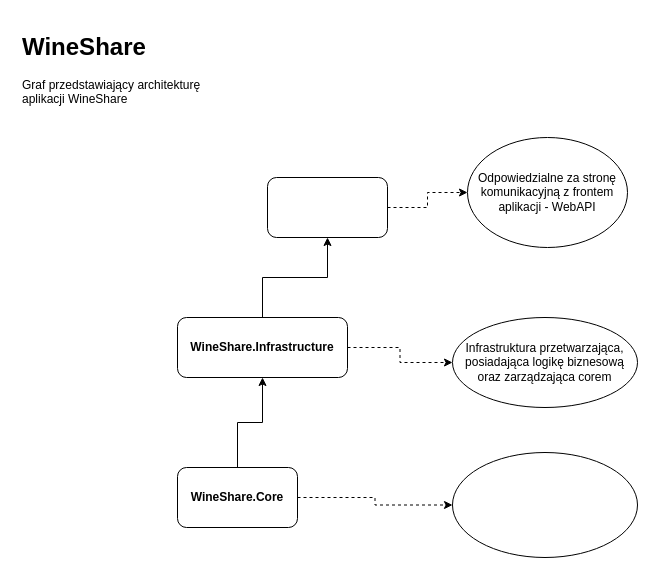
Image size: 655x575. Some labels were removed from this diagram. The box of each missing label's shape, as (x1, y1, x2, y2) in pixels:
Obszar architektury odpowiedzialny za domenę aplikacji, odwzorowanie bazy danych: (452, 452, 638, 558)
WIneShare.App: (266, 176, 388, 238)
